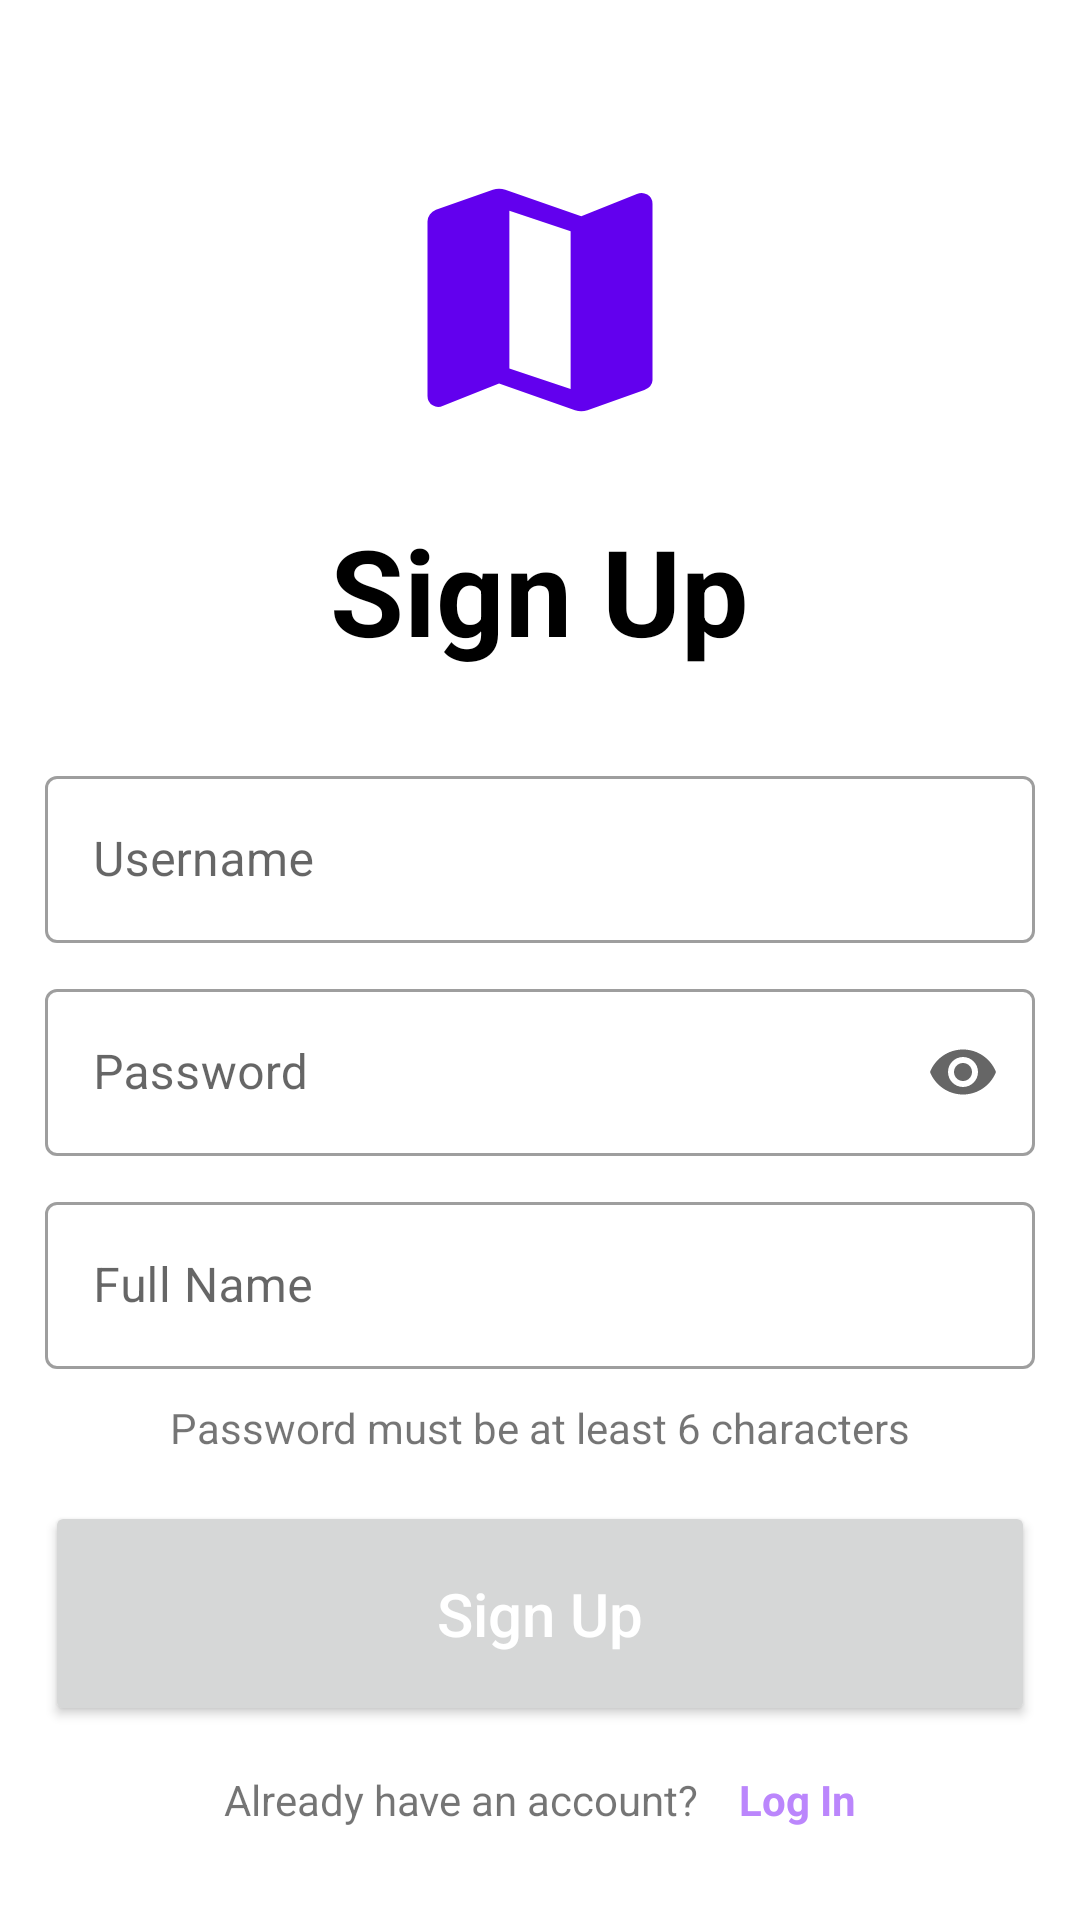

Named icons in this screenshot (1080 × 1920) and their centers, (x=x, y=y):
map: (x=540, y=300)
